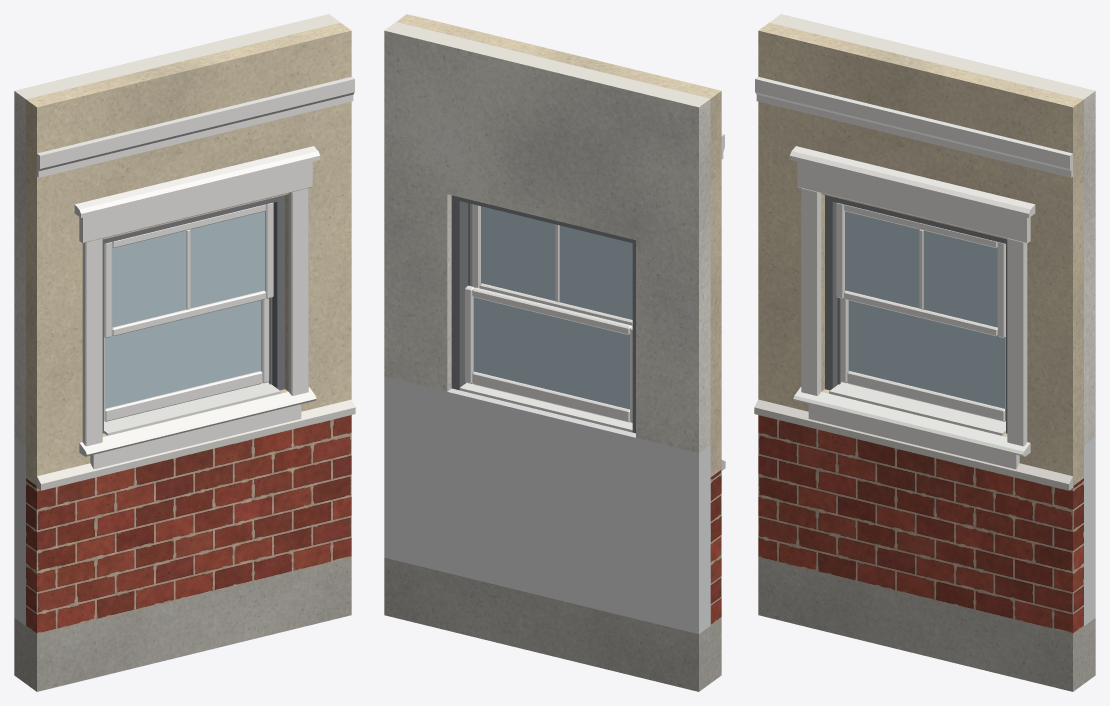
Rendered from c_win.glb.
3 views of the same model, side by side, from view 1: azimuth 30°, elevation 25°; view 2: azimuth 150°, elevation 25°; view 3: azimuth 330°, elevation 25° (orthographic).
Visible parts, largest first — view 1: c_win_render, c_win_brick, c_win_trim, c_win_glass, c_win_concrete, c_win_plaster, c_win_sash, c_win_frame, c_win_coping, c_win_tile; view 2: c_win_plaster, c_win_tile, c_win_glass, c_win_concrete, c_win_render, c_win_sash, c_win_frame, c_win_trim, c_win_brick; view 3: c_win_render, c_win_brick, c_win_trim, c_win_glass, c_win_concrete, c_win_plaster, c_win_sash, c_win_frame, c_win_coping, c_win_tile.
Boxes of the visible parts, x1,y1,x2,y2 form: c_win_render: [26, 22, 351, 485]; c_win_brick: [26, 415, 351, 634]; c_win_trim: [37, 77, 354, 469]; c_win_glass: [105, 211, 264, 408]; c_win_concrete: [14, 557, 351, 691]; c_win_plaster: [14, 14, 340, 444]; c_win_sash: [104, 202, 273, 421]; c_win_frame: [102, 195, 284, 433]; c_win_coping: [37, 399, 355, 490]; c_win_tile: [14, 437, 25, 625]; c_win_plaster: [384, 22, 710, 452]; c_win_tile: [384, 376, 710, 634]; c_win_glass: [473, 206, 632, 409]; c_win_concrete: [384, 557, 721, 691]; c_win_render: [396, 14, 721, 476]; c_win_sash: [465, 204, 632, 423]; c_win_frame: [451, 195, 635, 433]; c_win_trim: [459, 134, 724, 432]; c_win_brick: [710, 470, 721, 625]; c_win_render: [758, 22, 1083, 485]; c_win_brick: [758, 415, 1083, 634]; c_win_trim: [755, 77, 1072, 469]; c_win_glass: [845, 211, 1004, 408]; c_win_concrete: [758, 557, 1095, 691]; c_win_plaster: [769, 14, 1095, 444]; c_win_sash: [836, 202, 1005, 421]; c_win_frame: [825, 195, 1007, 433]; c_win_coping: [754, 399, 1072, 490]; c_win_tile: [1084, 437, 1095, 625].
Size of the model in its own units: 2 by 3.55 by 0.332.
Materials: 10 (4 with a texture image).
